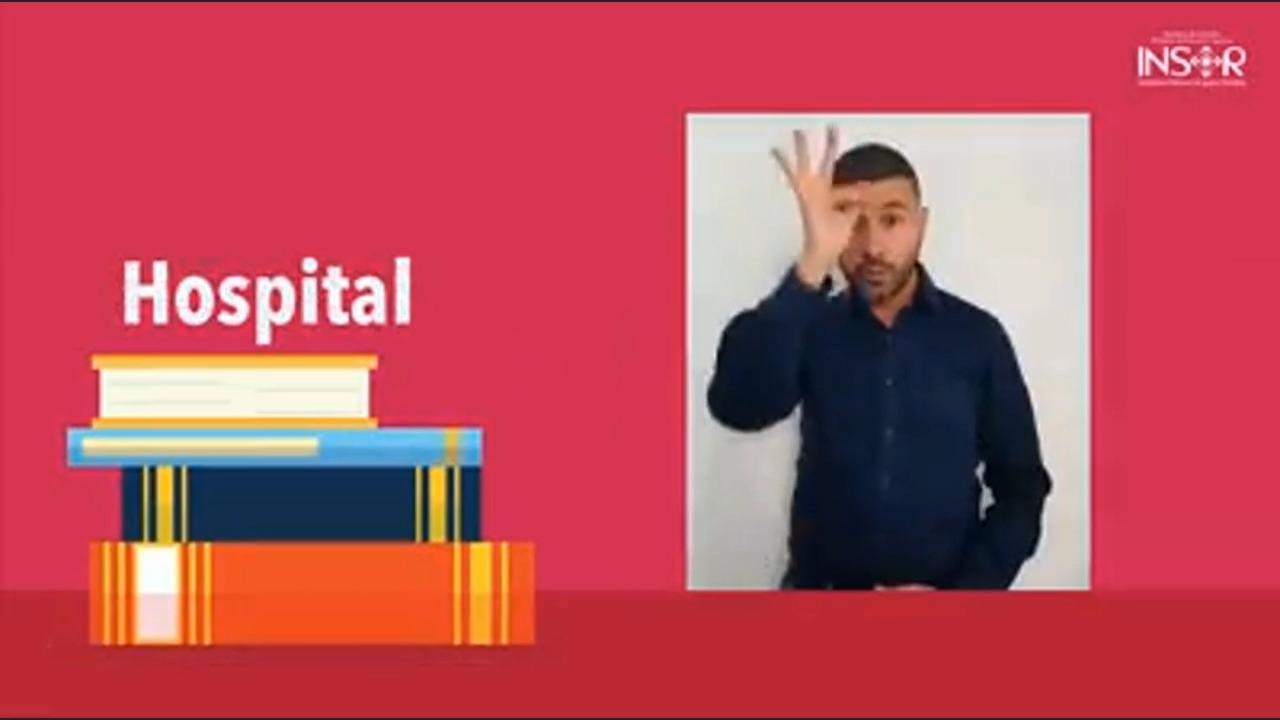Hospital: (712, 122, 1059, 574)
